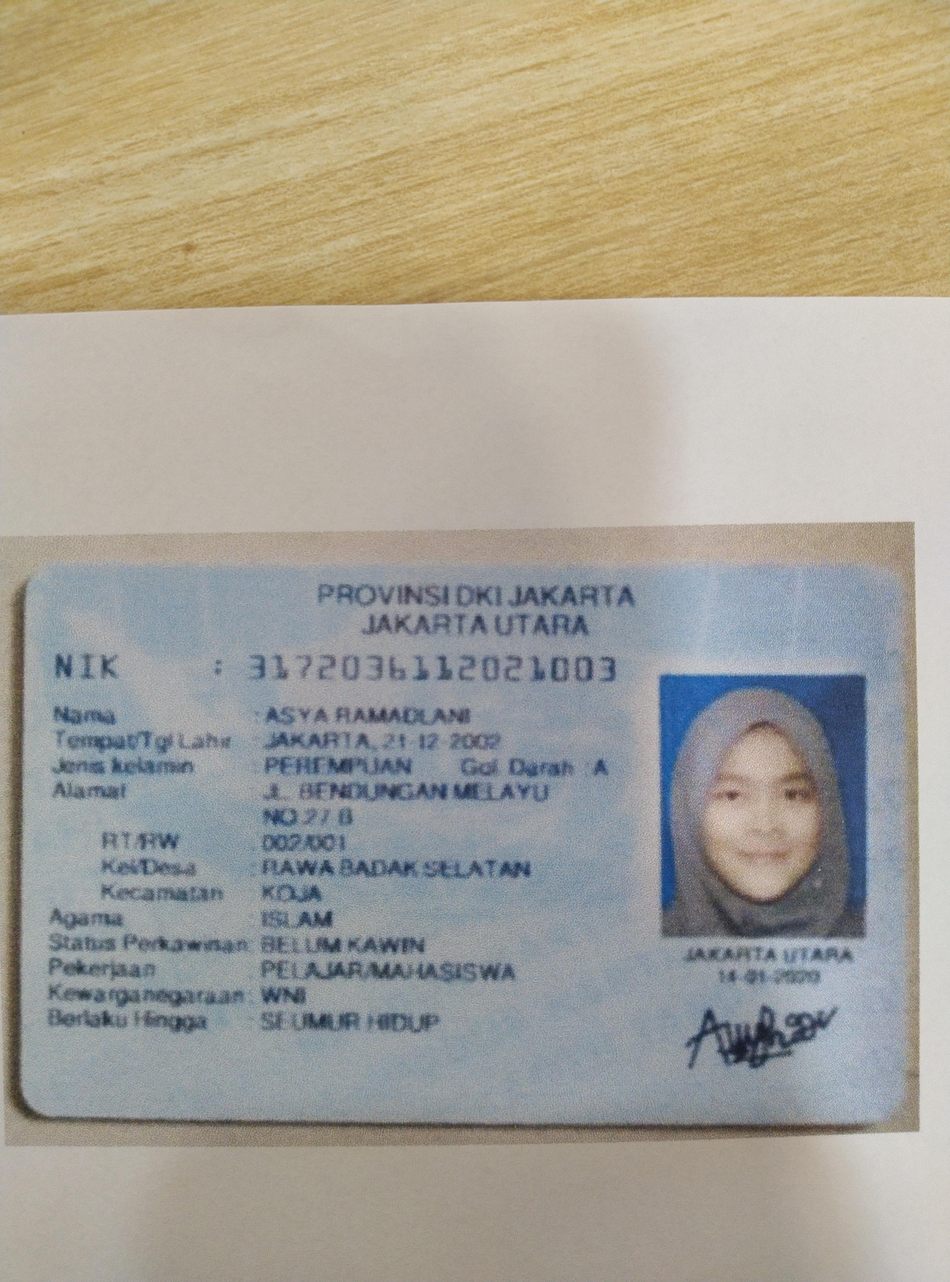ktp: (25, 566, 900, 1123)
